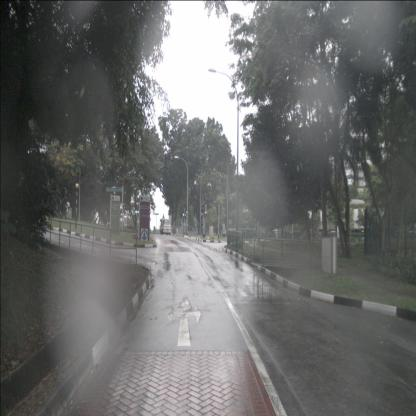vehicle-car: (315, 228, 334, 242)
vehicle-truck: (160, 219, 172, 235)
